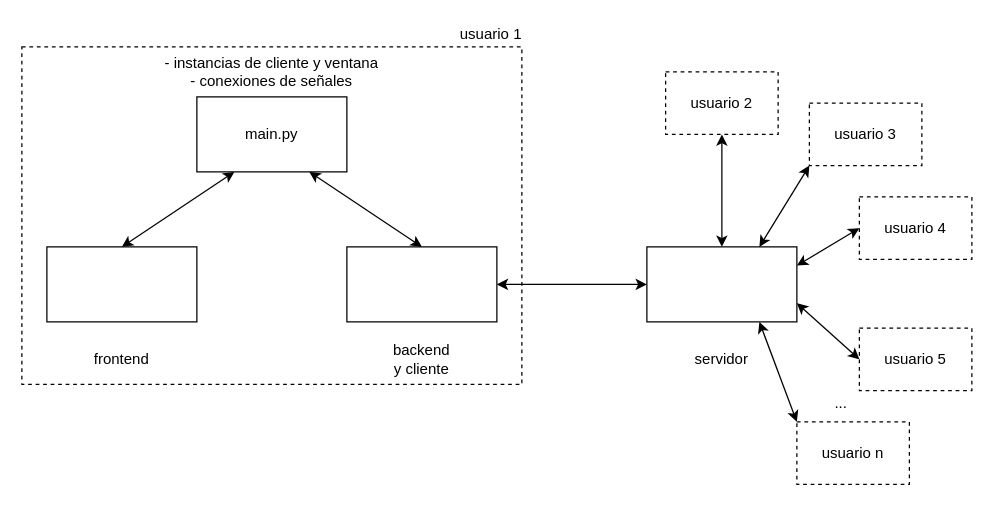
Some shapes in this 994 by 506 pixel diagram are drawn without their labels. The centre of each missing label's shape, as x and y in pixels:
"client.py" belongs at (x=421, y=284).
"lobby.py" belongs at (x=121, y=284).
"server.py" belongs at (x=721, y=284).
